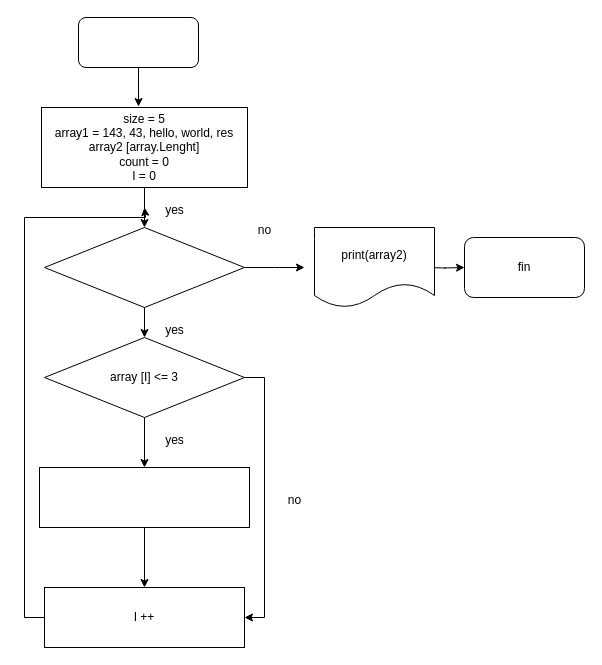
This 602x665 diagram has some shape labels left out. The shapes that lost their labels are listed below. From the top down, each one's centre as x and y in pixels, then its label:
the point at 138,42: start
the point at 144,267: I < array.Length
the point at 144,497: array2[count] = array1 [I] count++
